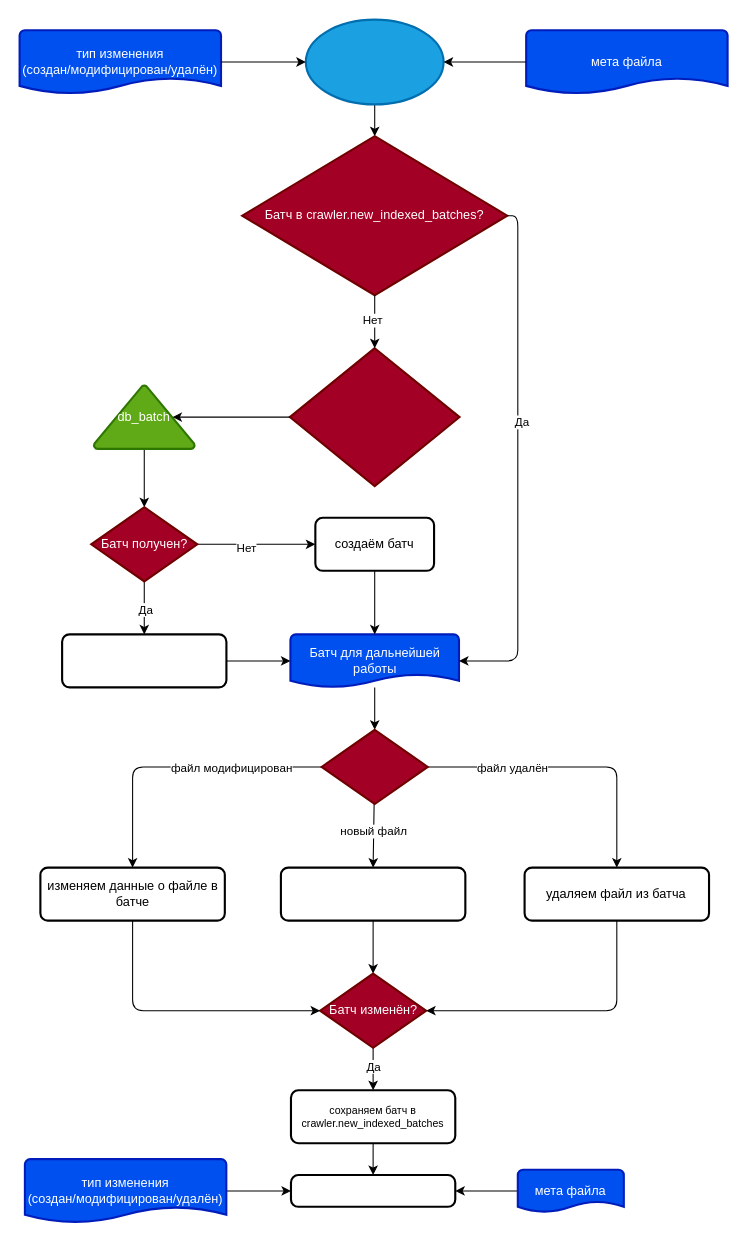
The diagram is 746 pixels wide and 1241 high, and some of its shapes have lost their labels. Here are the shapes that lost their labels. From the top down, the centre of each, then its label:
(x=374, y=61): Изменение меты файла
(x=374, y=417): Батч в crawler.loaded_batches?
(x=144, y=660): сохраняем батч в crawler.loaded_batches
(x=374, y=766): Тип изменения?
(x=372, y=893): добавляем файл в батч
(x=372, y=1190): update_sample
